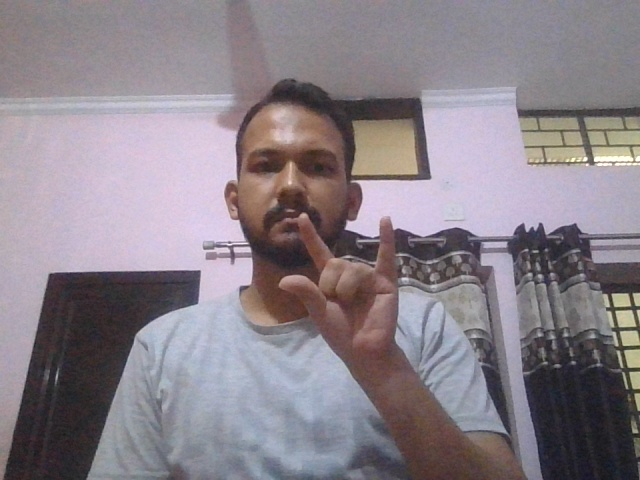iloveyou: (278, 212, 400, 361)
